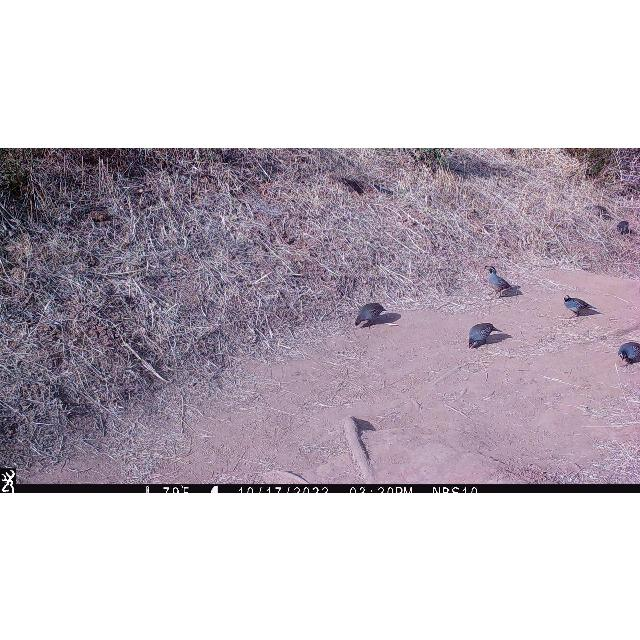animals: (483, 264, 517, 300), (468, 322, 504, 351), (355, 301, 389, 327), (564, 294, 598, 318), (618, 340, 640, 366)
